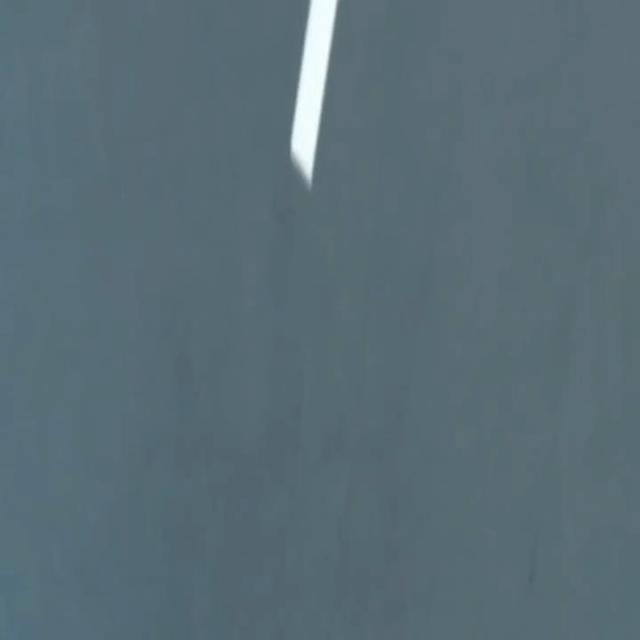center: (290, 0, 337, 187)
